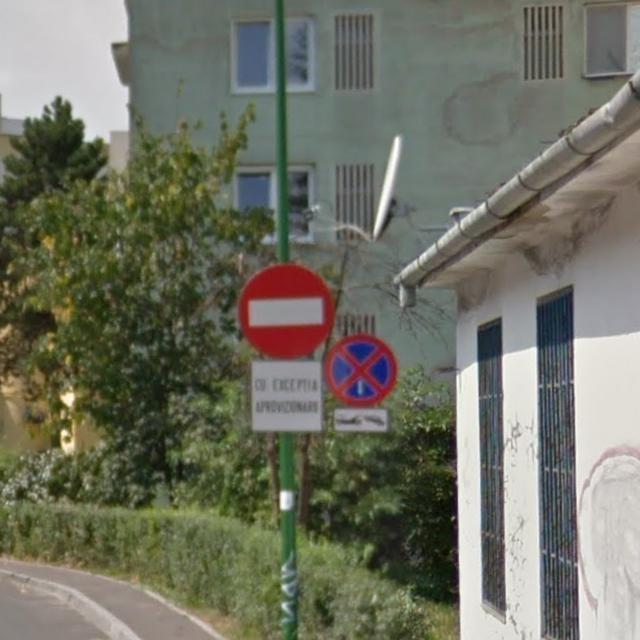forb_waiting: (325, 334, 397, 405)
